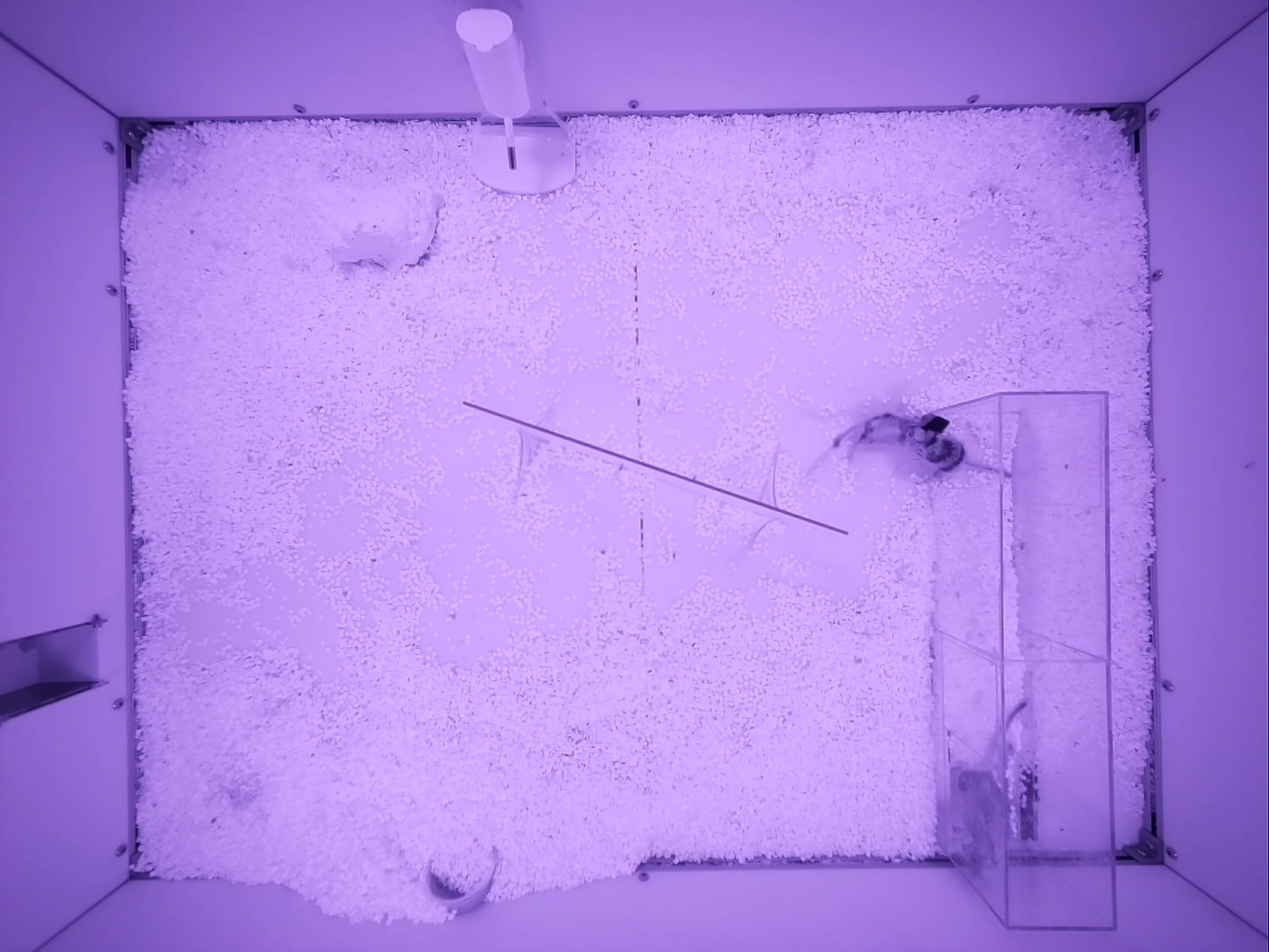adult_back: (951, 700, 1026, 870), (902, 413, 1011, 478)
